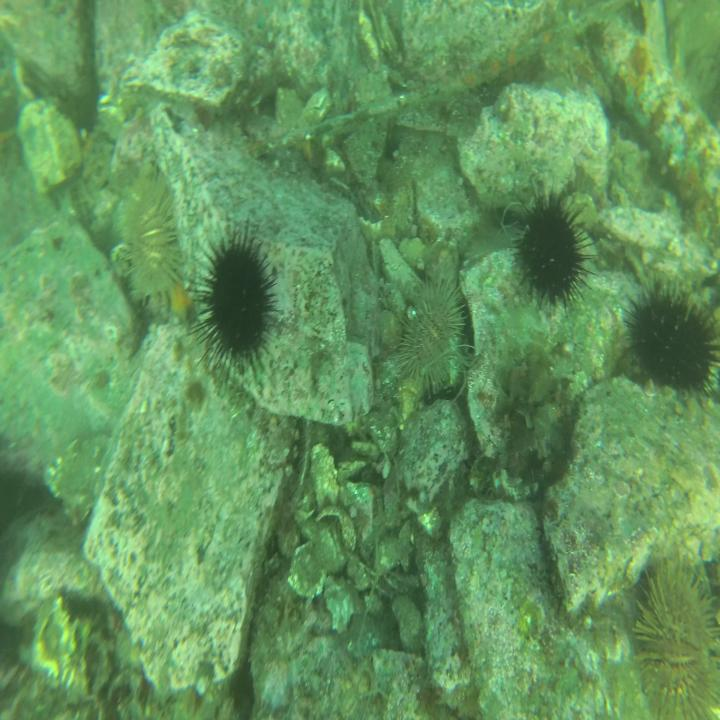echinus: (632, 551, 720, 720), (190, 227, 278, 383), (627, 274, 720, 402), (514, 189, 592, 316), (111, 179, 182, 303), (403, 274, 469, 389)
starfish: (168, 275, 190, 321)
